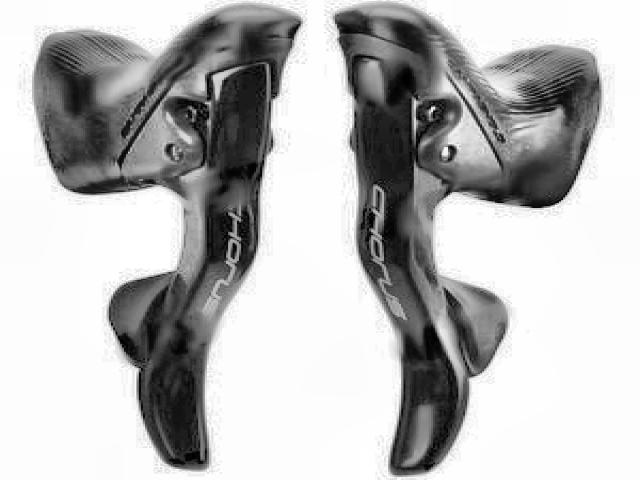sti_shifter: (27, 3, 308, 480), (330, 1, 606, 476)
